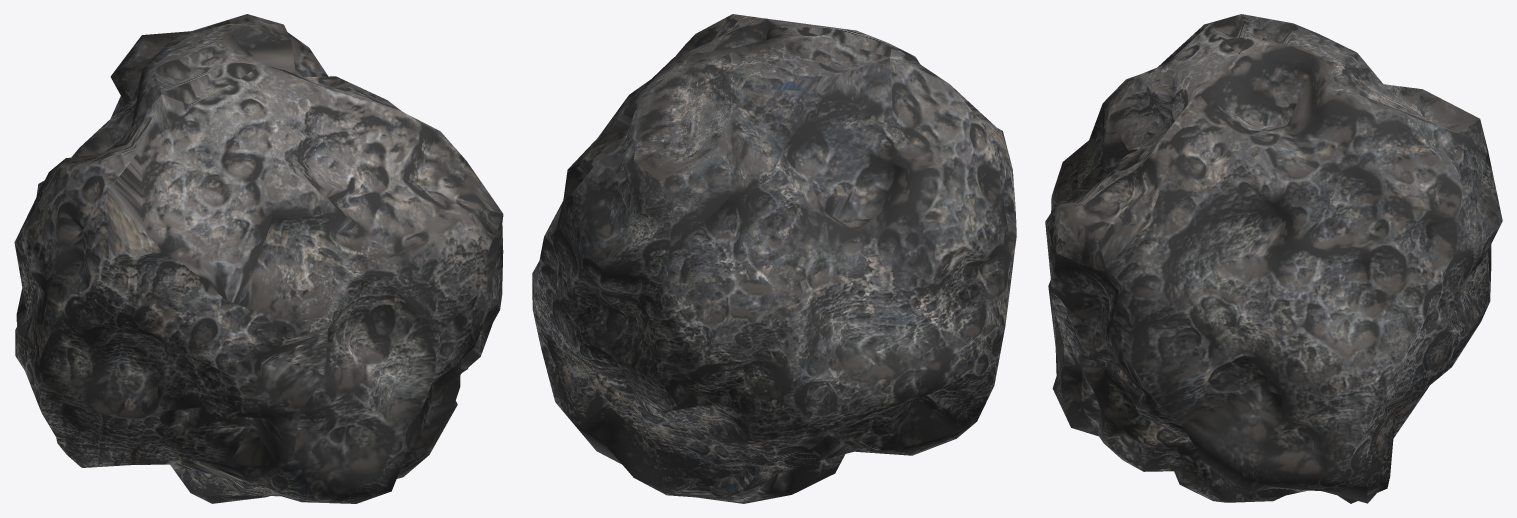
Rendered from Asteroid_02.fbx.
3 views of the same model, side by side, from view 1: azimuth 30°, elevation 25°; view 2: azimuth 150°, elevation 25°; view 3: azimuth 270°, elevation 25° (orthographic). The views are drawn at different scales.
Visible parts, largest first — view 1: Asteroid_02; view 2: Asteroid_02; view 3: Asteroid_02.
Boxes of the visible parts, x1,y1,x2,y2 form: Asteroid_02: [14, 14, 503, 503]; Asteroid_02: [532, 14, 1016, 503]; Asteroid_02: [1045, 14, 1502, 503].
Bounding box in the file's own units: 0.7905 × 0.8173 × 0.7863.
1 material, 1 textured.
